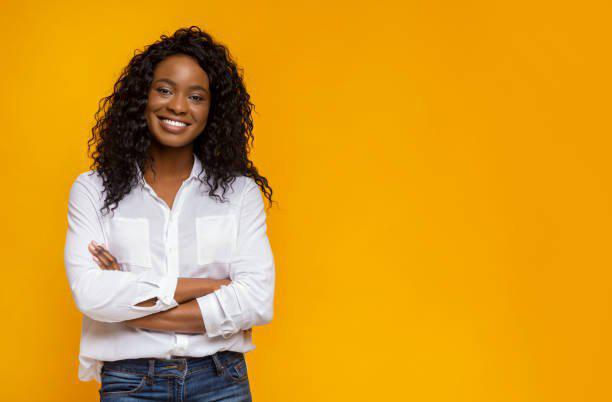Sober: (151, 65, 204, 142)
